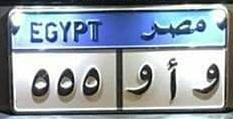5: (81, 65, 105, 99), (31, 67, 50, 99), (57, 68, 76, 96)
alif: (164, 56, 180, 103)
waw: (191, 62, 222, 98), (125, 63, 155, 99)
